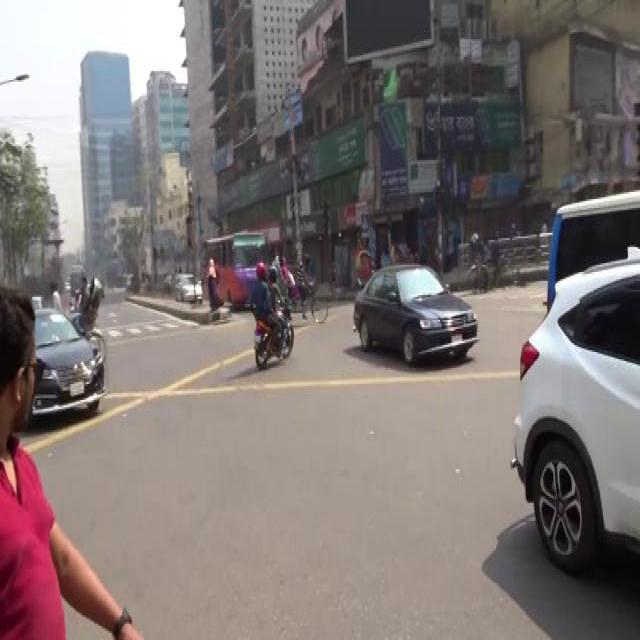10: (252, 299, 294, 369)
13: (270, 254, 328, 322), (467, 230, 519, 292), (69, 276, 105, 358), (353, 249, 372, 288), (390, 242, 402, 263)
19: (546, 191, 640, 300)
5: (512, 248, 640, 566), (353, 262, 477, 356), (29, 303, 103, 415), (174, 273, 202, 299)
Truck: (200, 230, 268, 303), (69, 263, 85, 288)
